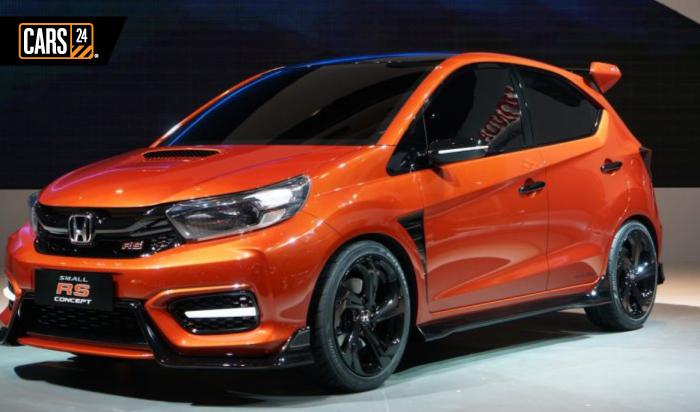windshield: (141, 52, 450, 161)
